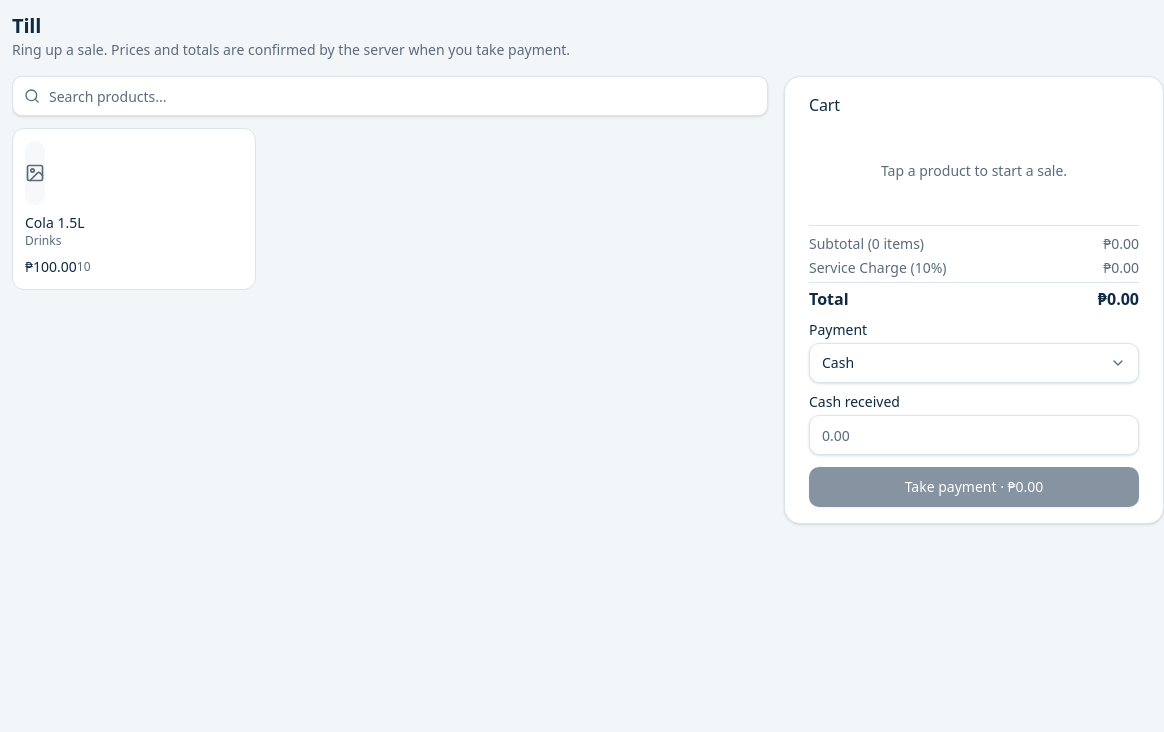
Test: totals › applies the branch fee and shows the change
The width and height of the screenshot is (1164, 732).
Click the button with aria-label "Add Cola 1.5L" at x=134, y=209, box [12,128,256,290]
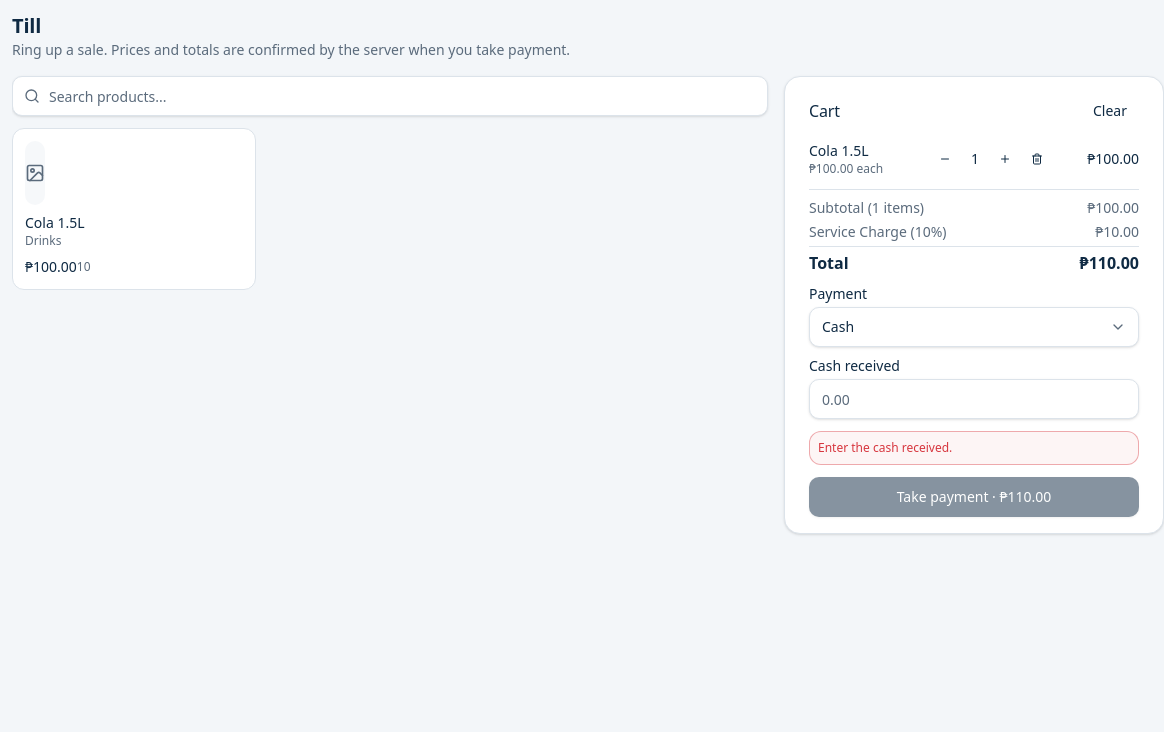
Type "200" into the number field labelled "Cash received" at x=974, y=399, box [809,379,1139,419]
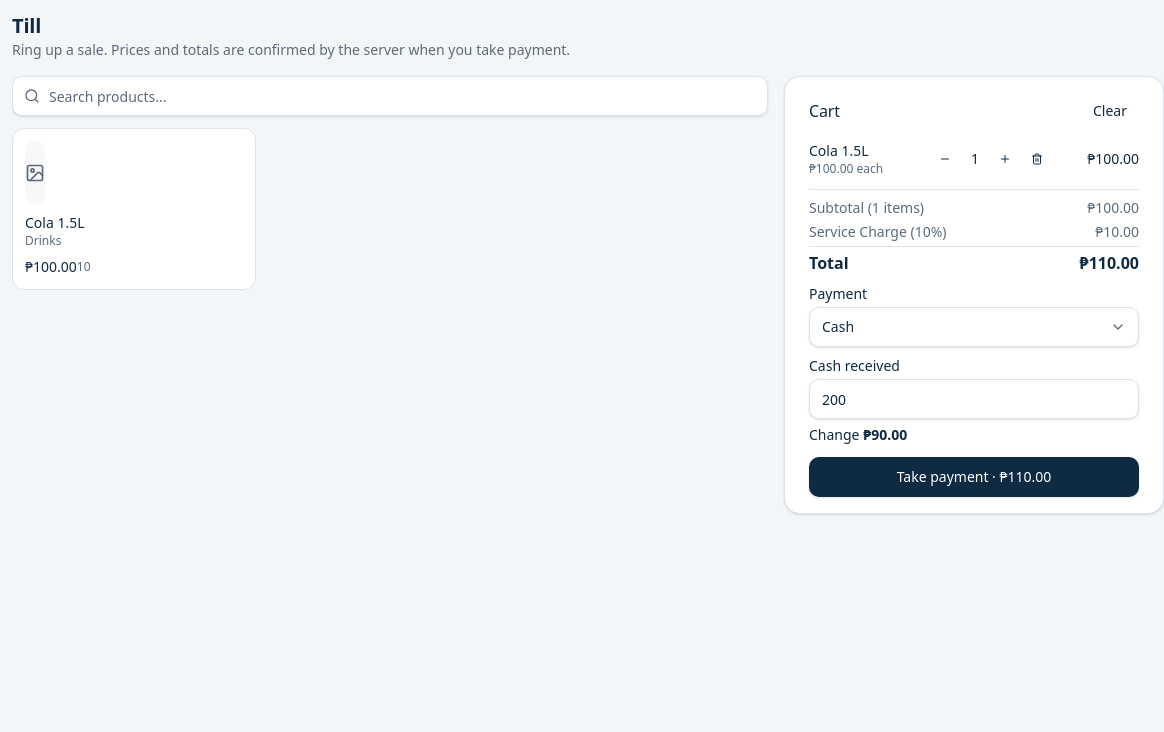
Check: the text "₱10.00" is shown, box [1095,222,1139,242]
Check: the text "₱110.00" is shown, box [1080,251,1139,275]
Check: the text "₱90.00" is shown, box [863,425,907,444]
